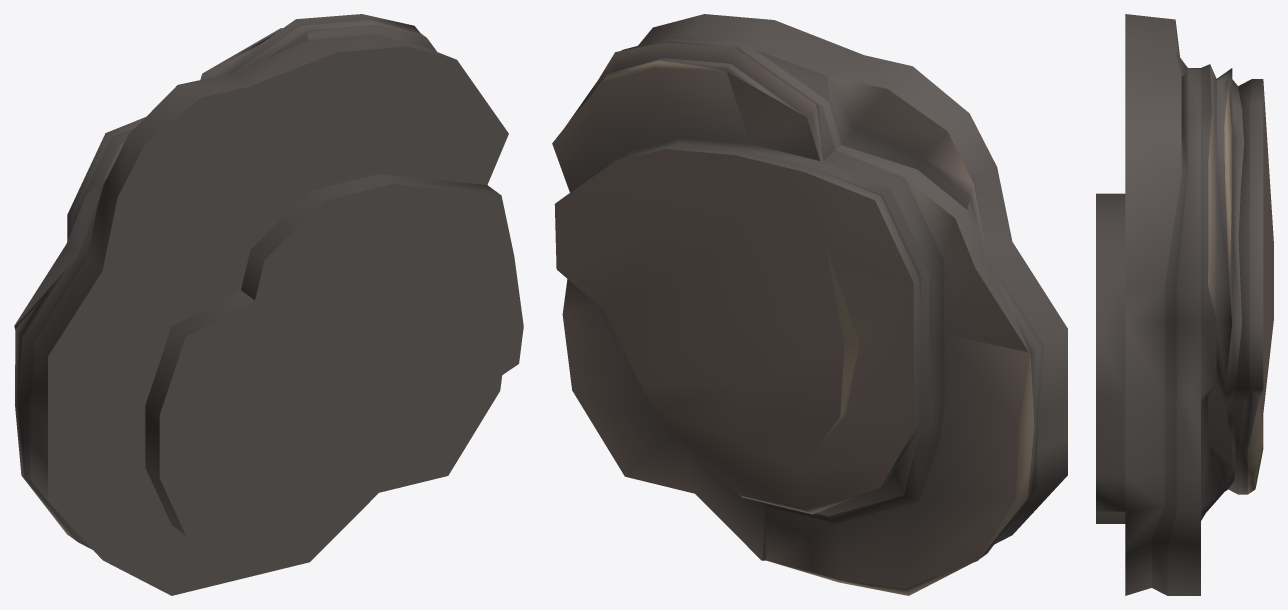
The model's file is RockFlatLayered.005.glb.
The picture shows the model from 3 angles, left to right: view 1: azimuth 30°, elevation 25°; view 2: azimuth 150°, elevation 25°; view 3: azimuth 270°, elevation 25°; orthographic projection. The views are drawn at different scales.
Visible parts, largest first — view 1: RockFlatLayered.005; view 2: RockFlatLayered.005; view 3: RockFlatLayered.005.
Part boxes in pixels (x1,y1,x2,y2): RockFlatLayered.005: [14, 14, 523, 595]; RockFlatLayered.005: [552, 14, 1067, 595]; RockFlatLayered.005: [1096, 14, 1273, 595].
Size of the model in its own units: 676 by 714 by 217.
